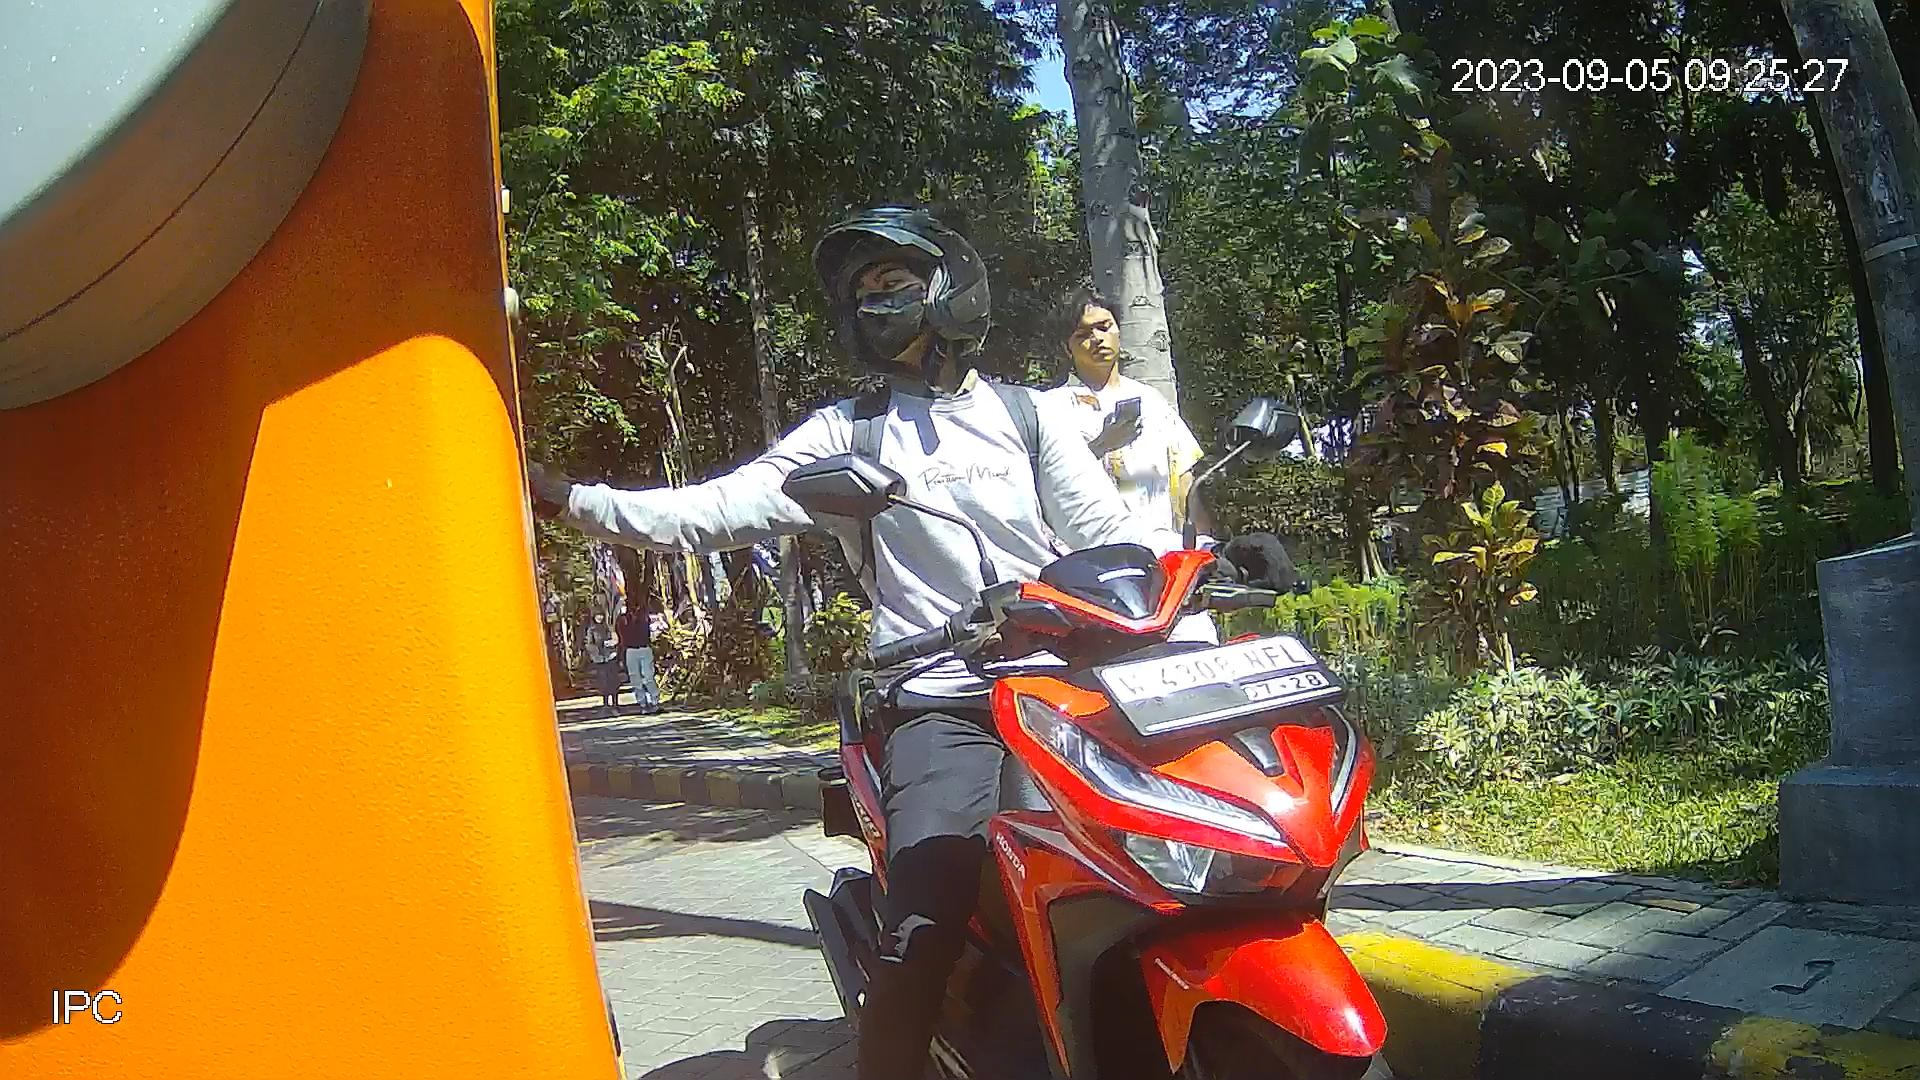plat: (1089, 629, 1350, 738)
